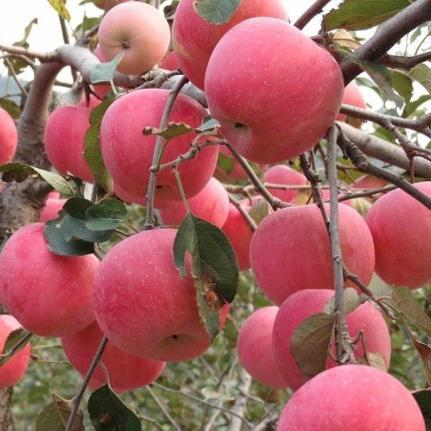apple: (204, 17, 342, 162), (96, 226, 228, 360), (98, 85, 218, 202), (249, 202, 375, 305), (269, 288, 394, 383), (1, 220, 99, 337), (275, 367, 429, 431), (365, 185, 430, 289), (93, 1, 169, 74), (41, 105, 107, 185)
